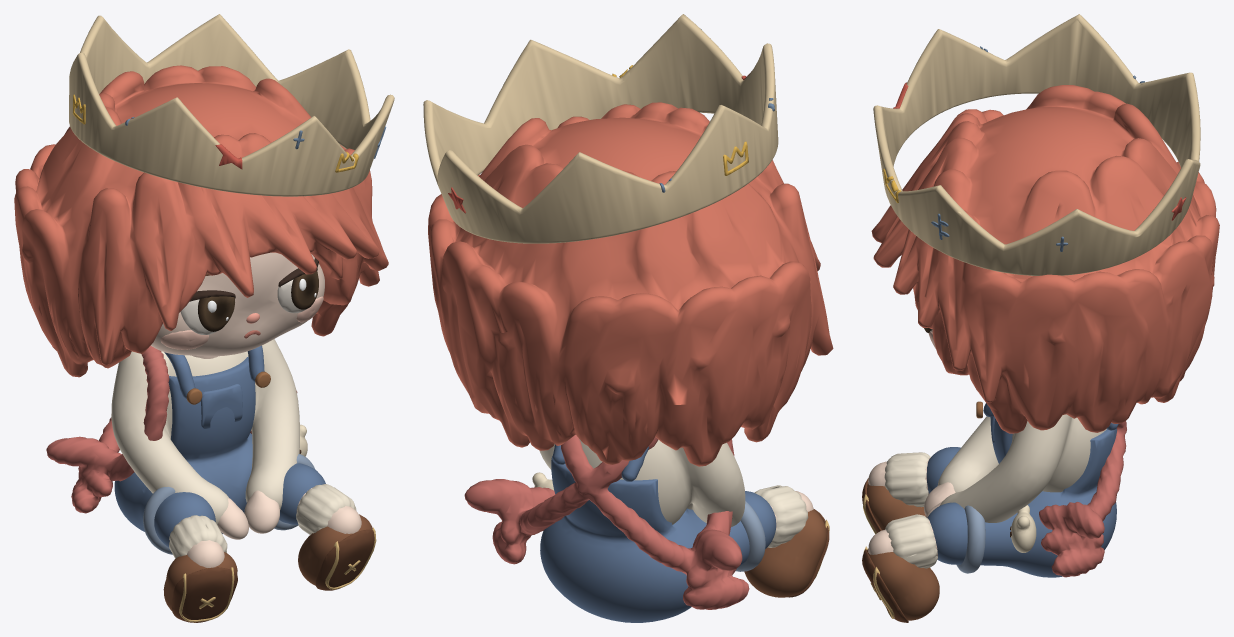
The model's file is paper_crown_roblox.glb.
The picture shows the model from 3 angles, left to right: view 1: azimuth 30°, elevation 25°; view 2: azimuth 150°, elevation 25°; view 3: azimuth 270°, elevation 25°; orthographic projection. The views are drawn at different scales.
Parts seen in each view (by area): view 1: PaperCrown_Hair, PaperCrown_Crown, PaperCrown_Sweater, PaperCrown_Overalls, PaperCrown_Head, PaperCrown_Sash, PaperCrown_Soles, PaperCrown_Socks, PaperCrown_Shoes, PaperCrown_Hands, PaperCrown_Iris, PaperCrown_Legs (+7 smaller); view 2: PaperCrown_Hair, PaperCrown_Crown, PaperCrown_Overalls, PaperCrown_Sash, PaperCrown_Sweater, PaperCrown_Shoes, PaperCrown_Socks, PaperCrown_Cuffs, PaperCrown_Straps; view 3: PaperCrown_Hair, PaperCrown_Crown, PaperCrown_Sweater, PaperCrown_Overalls, PaperCrown_Sash, PaperCrown_Shoes, PaperCrown_Socks, PaperCrown_Cuffs, PaperCrown_Soles, PaperCrown_Legs, PaperCrown_Pouch, PaperCrown_Hands.
Boxes of the visible parts, bbox=[...] form: PaperCrown_Hair: bbox=[14, 65, 388, 377]; PaperCrown_Crown: bbox=[69, 14, 394, 196]; PaperCrown_Sweater: bbox=[111, 339, 299, 524]; PaperCrown_Overalls: bbox=[114, 357, 325, 547]; PaperCrown_Head: bbox=[151, 252, 324, 358]; PaperCrown_Sash: bbox=[46, 345, 297, 513]; PaperCrown_Soles: bbox=[171, 529, 374, 622]; PaperCrown_Socks: bbox=[169, 484, 356, 558]; PaperCrown_Shoes: bbox=[163, 514, 372, 610]; PaperCrown_Hands: bbox=[217, 490, 279, 539]; PaperCrown_Iris: bbox=[198, 270, 318, 331]; PaperCrown_Legs: bbox=[179, 487, 361, 567]; PaperCrown_Hair: bbox=[428, 102, 833, 466]; PaperCrown_Crown: bbox=[423, 14, 778, 243]; PaperCrown_Overalls: bbox=[540, 456, 776, 622]; PaperCrown_Sash: bbox=[464, 434, 749, 609]; PaperCrown_Sweater: bbox=[539, 439, 745, 526]; PaperCrown_Shoes: bbox=[744, 509, 826, 597]; PaperCrown_Socks: bbox=[754, 485, 808, 547]; PaperCrown_Cuffs: bbox=[735, 500, 765, 571]; PaperCrown_Straps: bbox=[552, 444, 648, 481]; PaperCrown_Hair: bbox=[871, 85, 1219, 433]; PaperCrown_Crown: bbox=[873, 14, 1200, 275]; PaperCrown_Sweater: bbox=[937, 414, 1106, 522]; PaperCrown_Overalls: bbox=[926, 418, 1116, 577]; PaperCrown_Sash: bbox=[1039, 421, 1126, 577]; PaperCrown_Shoes: bbox=[867, 483, 939, 620]; PaperCrown_Socks: bbox=[884, 452, 937, 568]; PaperCrown_Cuffs: bbox=[956, 505, 985, 573]; PaperCrown_Soles: bbox=[862, 478, 908, 622]; PaperCrown_Legs: bbox=[868, 458, 937, 558]; PaperCrown_Pouch: bbox=[1011, 505, 1036, 552]; PaperCrown_Hands: bbox=[924, 482, 955, 517].
Size of the model in its own units: 2.11 by 3.15 by 1.96.
Materials: 25 (25 with a texture image).
